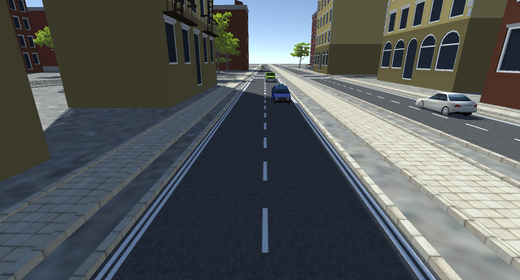centerstrip: (409, 106, 520, 143), (259, 78, 271, 268), (364, 91, 409, 105)
sidestripe: (303, 123, 433, 280), (92, 161, 193, 279), (186, 85, 248, 162), (289, 96, 313, 125)
